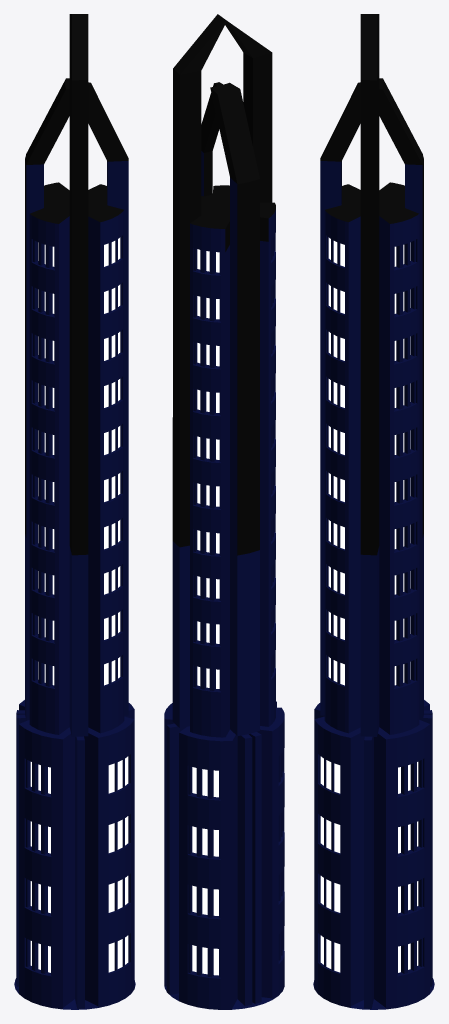
Rendered from the_cross.fbx.
3 views of the same model, side by side, from view 1: azimuth 90°, elevation 25°; view 2: azimuth 210°, elevation 25°; view 3: azimuth 270°, elevation 25° (orthographic).
Visible parts, largest first — view 1: Cylinder; view 2: Cylinder; view 3: Cylinder.
Boxes of the visible parts, bbox=[...] form: Cylinder: bbox=[14, 14, 135, 1009]; Cylinder: bbox=[164, 14, 284, 1009]; Cylinder: bbox=[313, 14, 434, 1009].
Size of the model in its own units: 282 by 2433 by 276.
